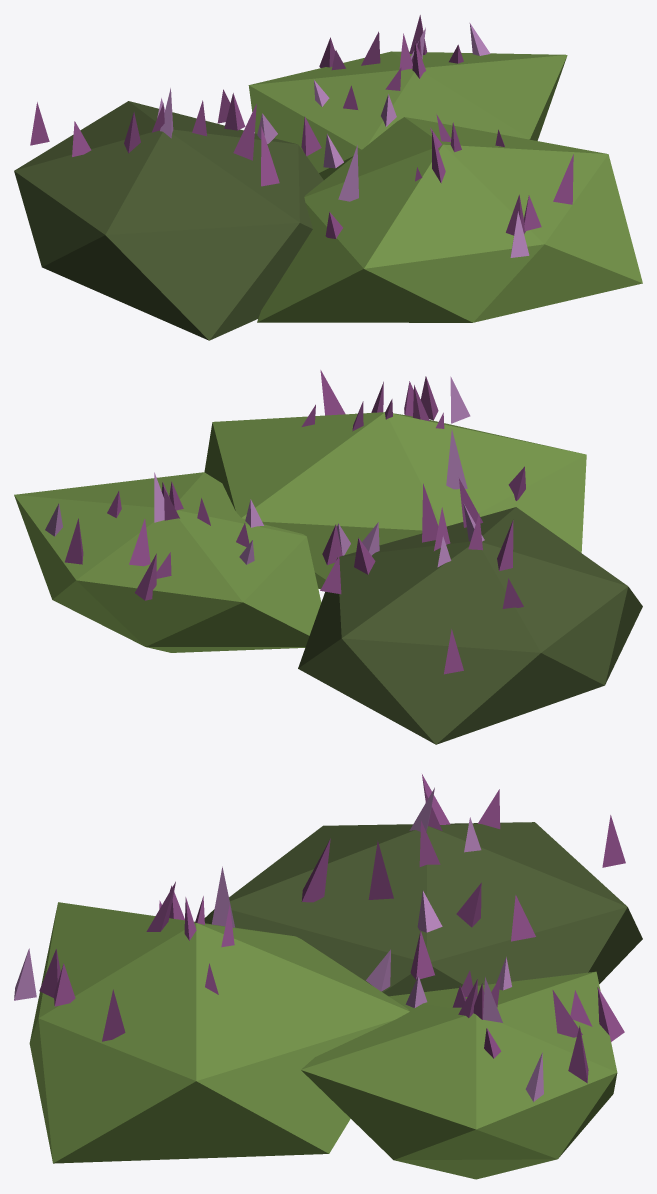
Rendered from ljung_2.glb.
3 views of the same model, one above another, from view 1: azimuth 30°, elevation 25°; view 2: azimuth 150°, elevation 25°; view 3: azimuth 270°, elevation 25° (orthographic). The views are drawn at different scales.
Visible parts, largest first — view 1: ljung_2; view 2: ljung_2; view 3: ljung_2.
Part boxes in pixels (left/top/right/bottom): ljung_2: left=14, top=15, right=642, bottom=340; ljung_2: left=14, top=370, right=642, bottom=744; ljung_2: left=14, top=774, right=642, bottom=1179.
Bounding box in the file's own units: 1.22 × 0.4606 × 1.01.
